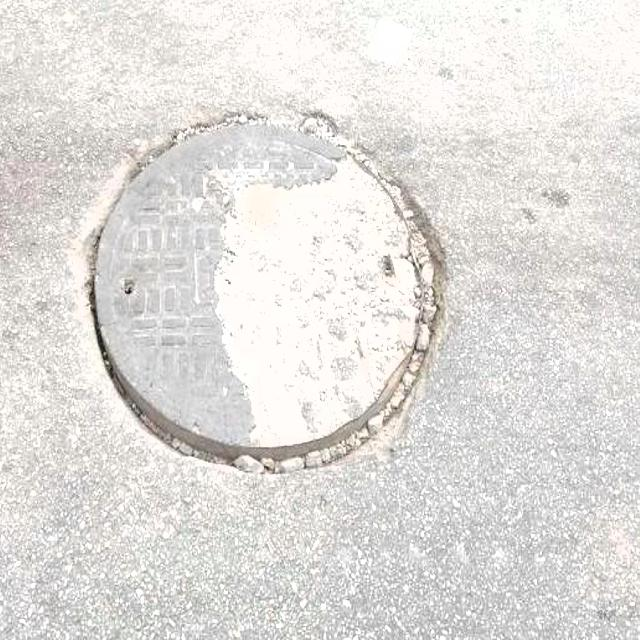circle: (72, 89, 463, 481)
